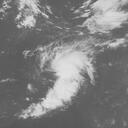cyclone: (49, 49, 94, 90)
